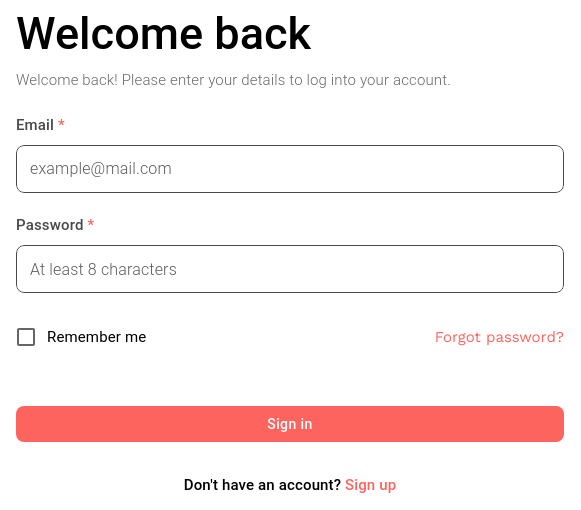
SignIn Page › shows server error on incorrect credentials
Type "wrong@mail.com" into the field labelled "Email" at (290, 169), box x1=16 y1=141 x2=564 y2=197
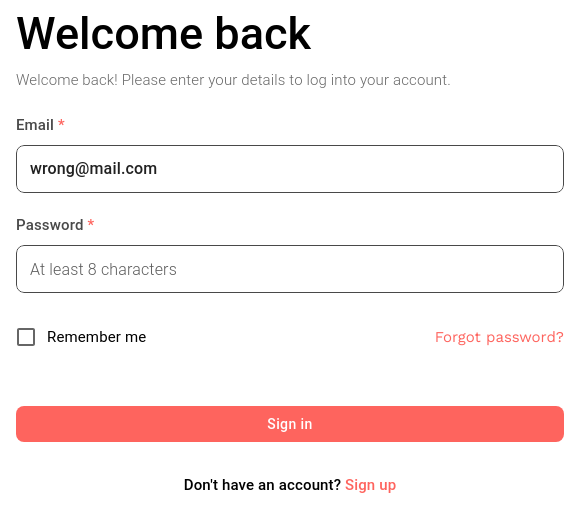
Type "badpassword" into the password field labelled "Password" at (290, 269), box x1=16 y1=241 x2=564 y2=297
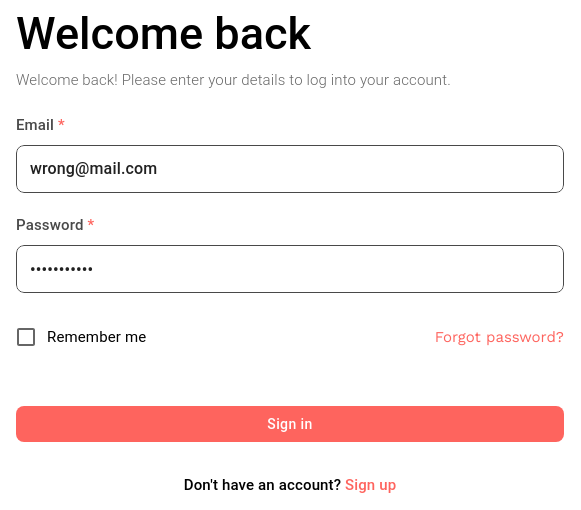
Click the button "Sign in" at (290, 424), box x1=16 y1=406 x2=564 y2=442
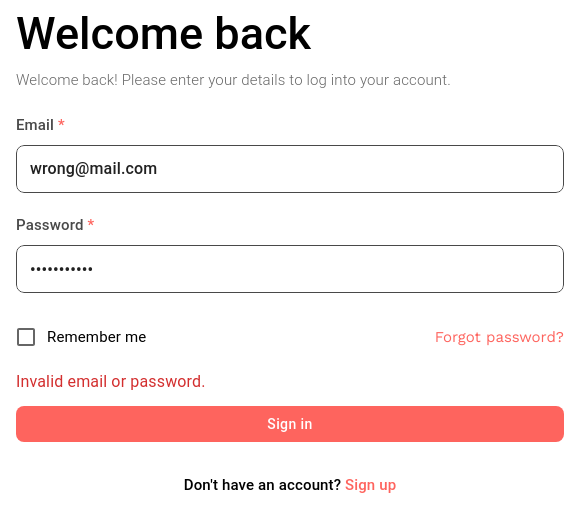
Expected: the message shows "Invalid email or password", x1=16 y1=372 x2=206 y2=391
